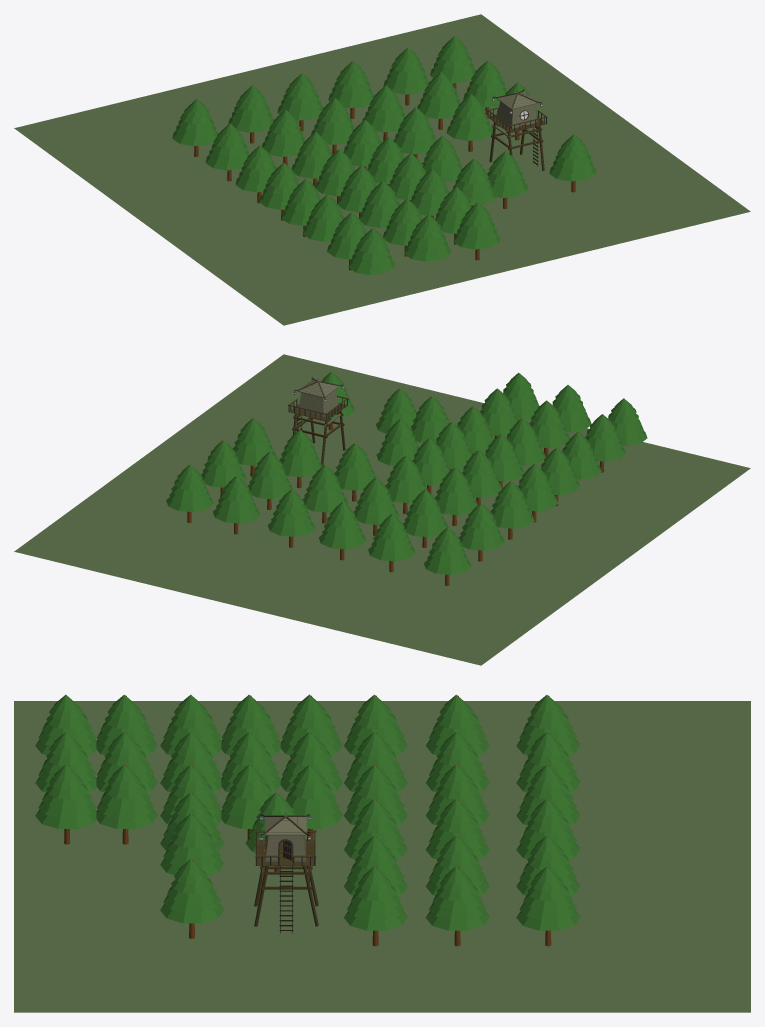
File: bosque.glb
The picture shows the model from 3 angles, top to bottom: view 1: azimuth 30°, elevation 25°; view 2: azimuth 150°, elevation 25°; view 3: azimuth 270°, elevation 25°; orthographic projection. The views are drawn at different scales.
Parts seen in each view (by area): view 1: grass, TREE.061, TREE.016, TREE.018, TREE.057, TREE.064, TREE.051, TREE.040, TREE.023, TREE.049, TREE.029, TREE.038 (+26 smaller); view 2: grass, TREE.015, TREE.023, TREE.029, TREE.013, TREE.040, TREE.051, TREE.049, TREE.038, TREE.021, TREE.047, TREE.036 (+26 smaller); view 3: grass, TREE.016, TREE.013, TREE.009, TREE.005, TREE.057, TREE.059, TREE.001, TREE.031, TREE.033, TREE.049, TREE.047 (+28 smaller).
Boxes of the visible parts, <box> form: grass: <box>14,14,750,325</box>; TREE.061: <box>404,214,451,261</box>; TREE.016: <box>549,134,596,181</box>; TREE.018: <box>446,94,493,140</box>; TREE.057: <box>453,202,500,249</box>; TREE.064: <box>348,228,395,274</box>; TREE.051: <box>172,99,218,146</box>; TREE.040: <box>228,85,274,132</box>; TREE.023: <box>383,47,429,94</box>; TREE.049: <box>205,123,248,170</box>; TREE.029: <box>328,61,374,107</box>; TREE.038: <box>262,110,304,156</box>; grass: <box>14,354,750,665</box>; TREE.015: <box>318,501,366,549</box>; TREE.023: <box>213,475,260,523</box>; TREE.029: <box>267,489,315,536</box>; TREE.013: <box>166,464,213,512</box>; TREE.040: <box>368,514,415,561</box>; TREE.051: <box>424,527,471,574</box>; TREE.049: <box>459,503,504,550</box>; TREE.038: <box>403,489,447,536</box>; TREE.021: <box>248,451,292,499</box>; TREE.047: <box>490,481,534,528</box>; TREE.036: <box>434,467,477,515</box>; grass: <box>14,701,750,1012</box>; TREE.016: <box>160,859,224,923</box>; TREE.013: <box>516,866,580,930</box>; TREE.009: <box>425,866,489,930</box>; TREE.005: <box>344,866,407,930</box>; TREE.057: <box>35,765,96,828</box>; TREE.059: <box>96,764,157,828</box>; TREE.001: <box>160,813,223,875</box>; TREE.031: <box>286,764,342,828</box>; TREE.033: <box>221,764,272,828</box>; TREE.049: <box>426,694,489,755</box>; TREE.047: <box>344,694,407,755</box>.
Bounding box in the file's own units: 37.95 × 6.32 × 37.95.
